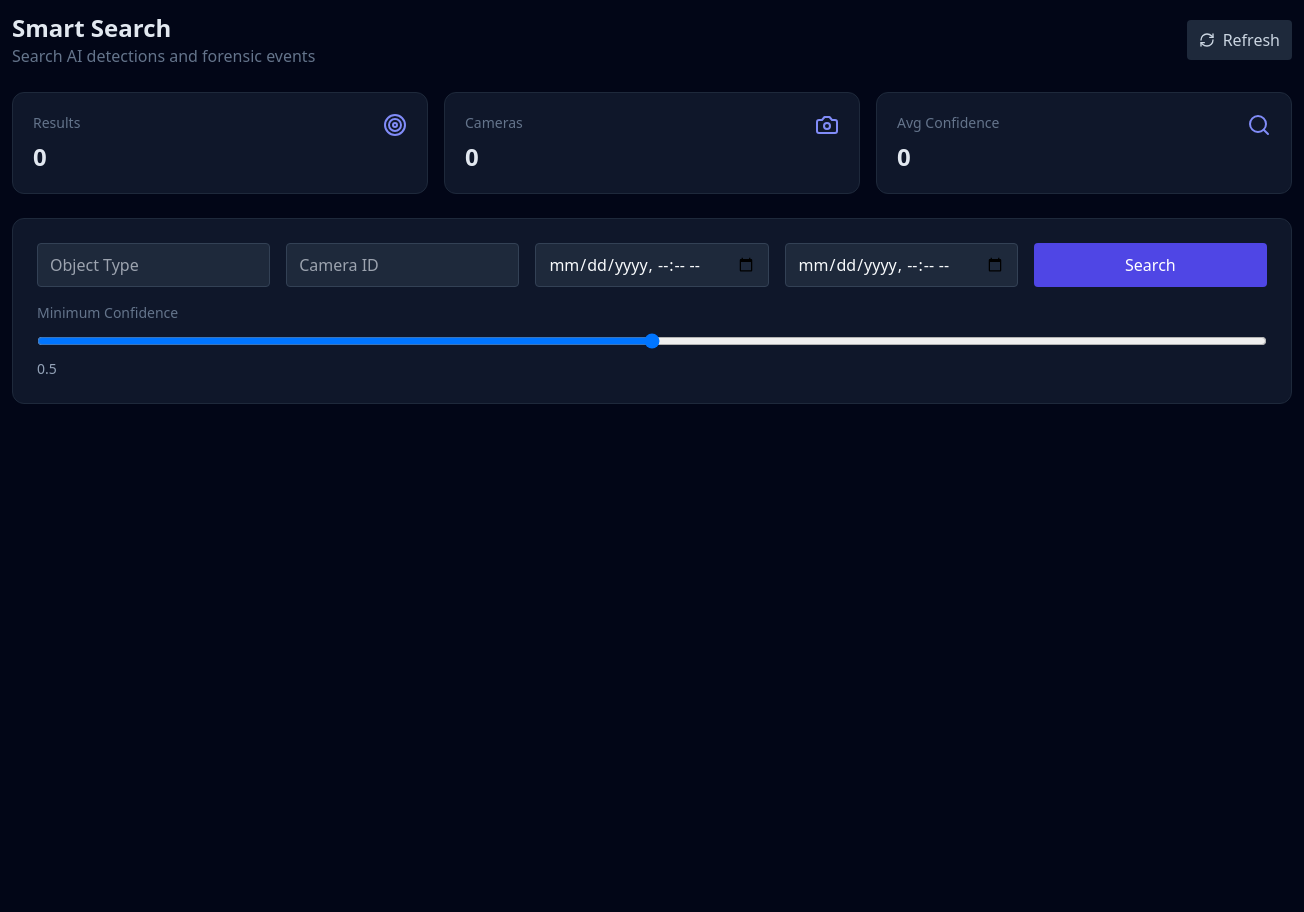
Scenario: SearchPage › renders search results with object_type and event_time
What coordinates should you click on to do the following:
click the button "Search"
I would click on:
 (1150, 265)
Its box is left=1034, top=243, right=1267, bottom=287.
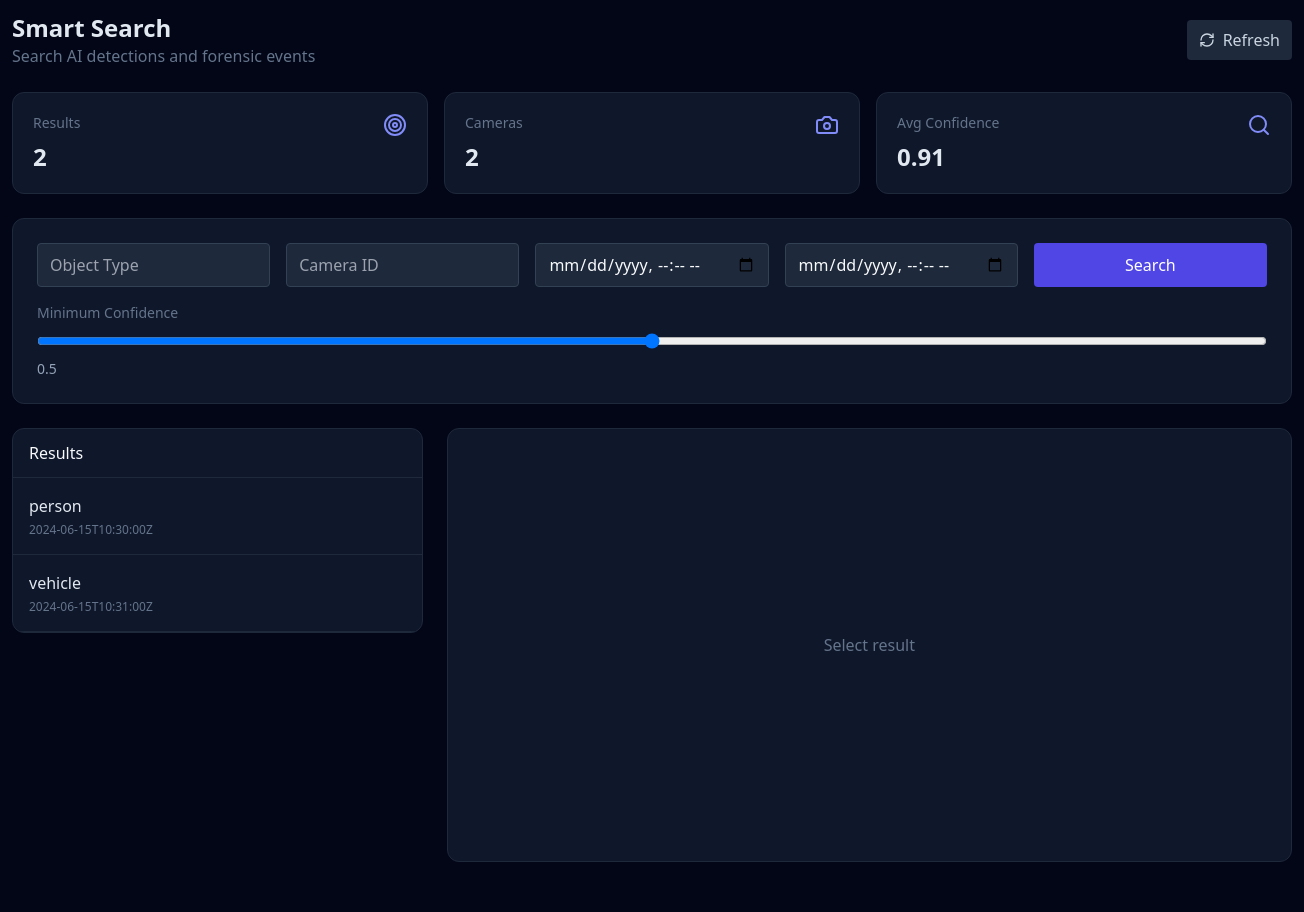
Expected: the text "person" is shown, left=29, top=495, right=82, bottom=517
Expected: the text "vehicle" is shown, left=29, top=572, right=81, bottom=594
Expected: the text "2024-06-15T10:30:00Z" is shown, left=29, top=521, right=153, bottom=538
